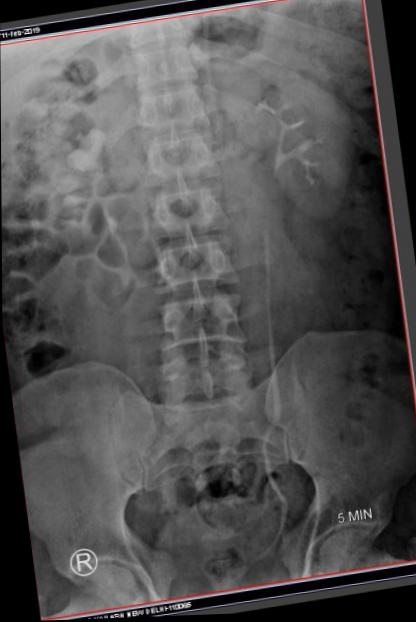left kidney: (212, 37, 372, 240)
vertebrae: (138, 131, 222, 191)
